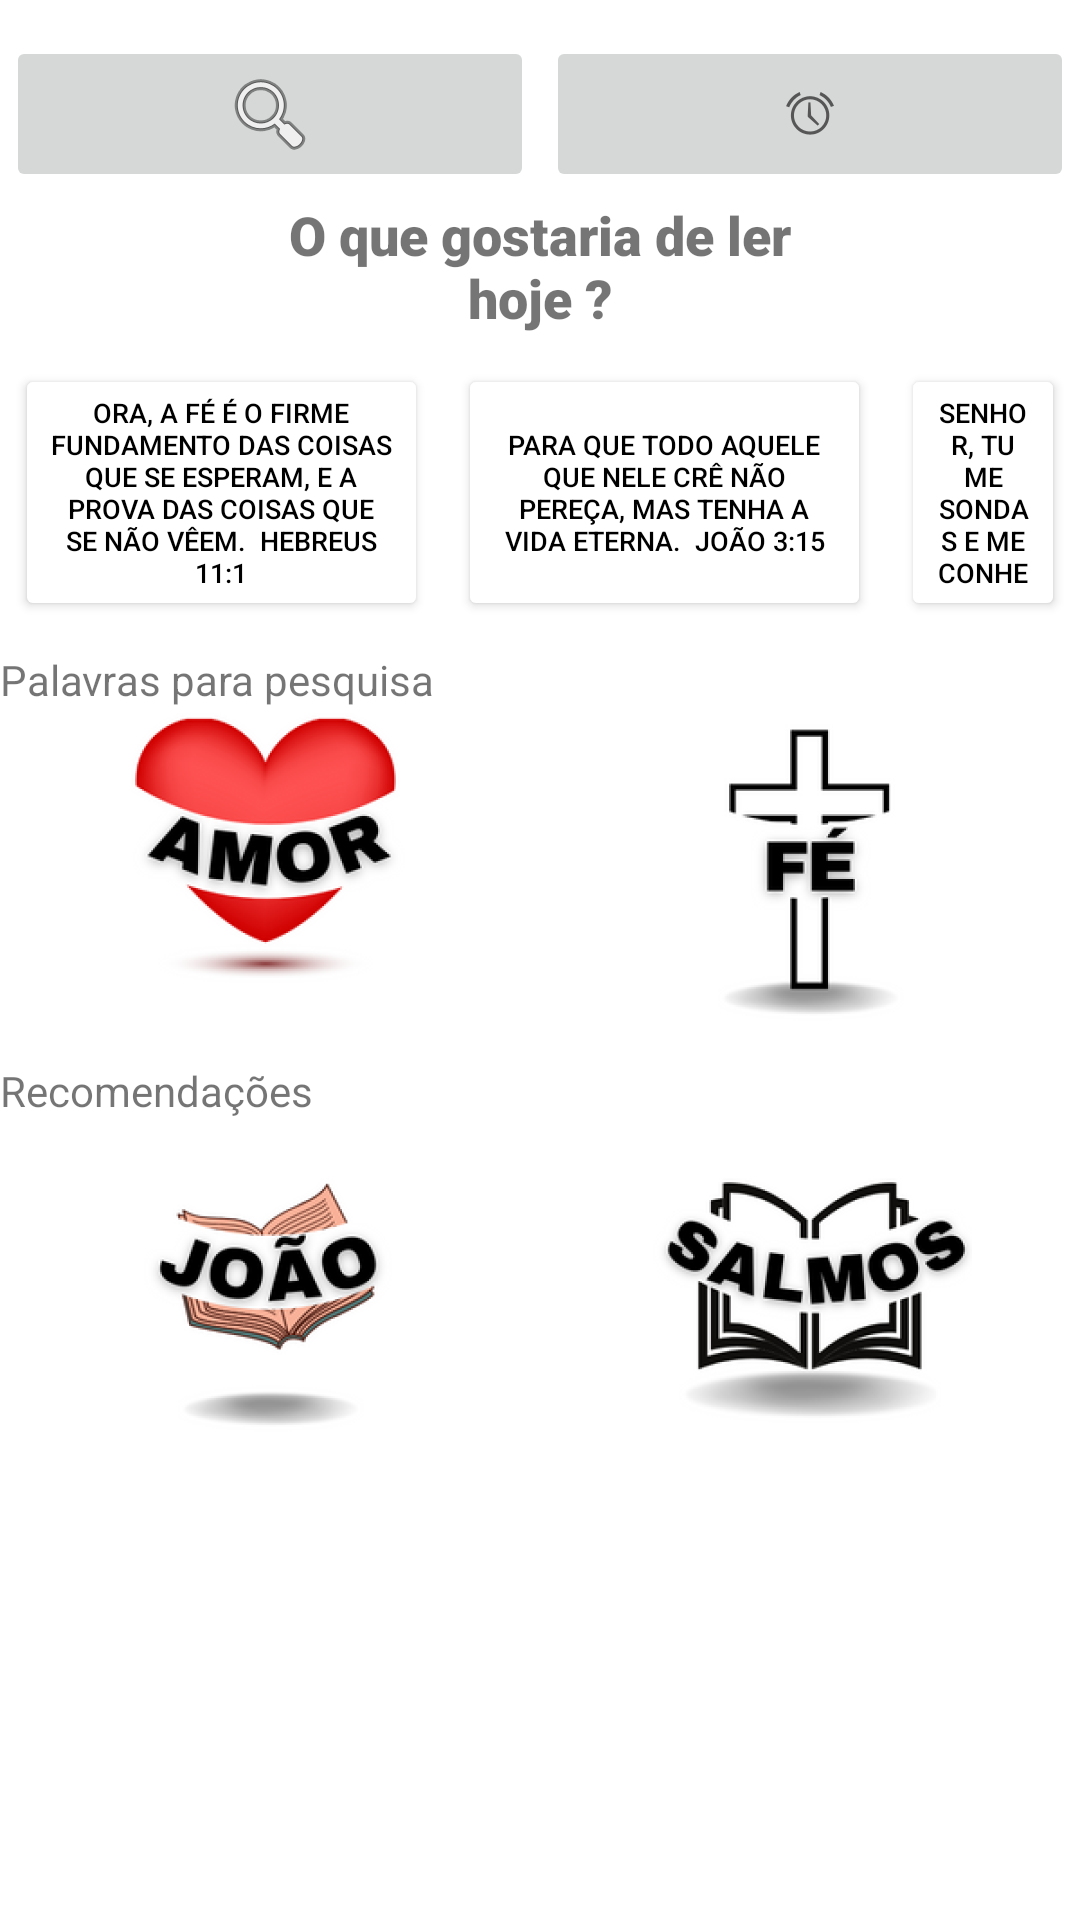

Icons on this 1080w x 1920h Android screen, each with the point to tap as (x,y):
book: (816,1298), (268,1303)
